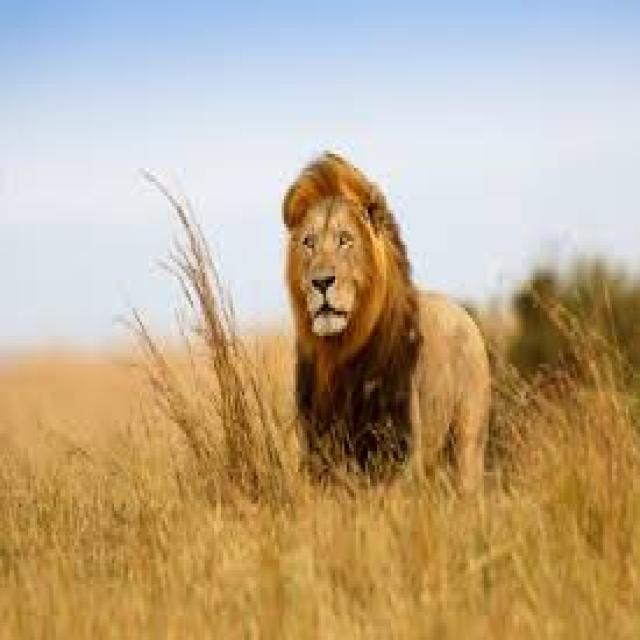Lion: (282, 154, 489, 493)
